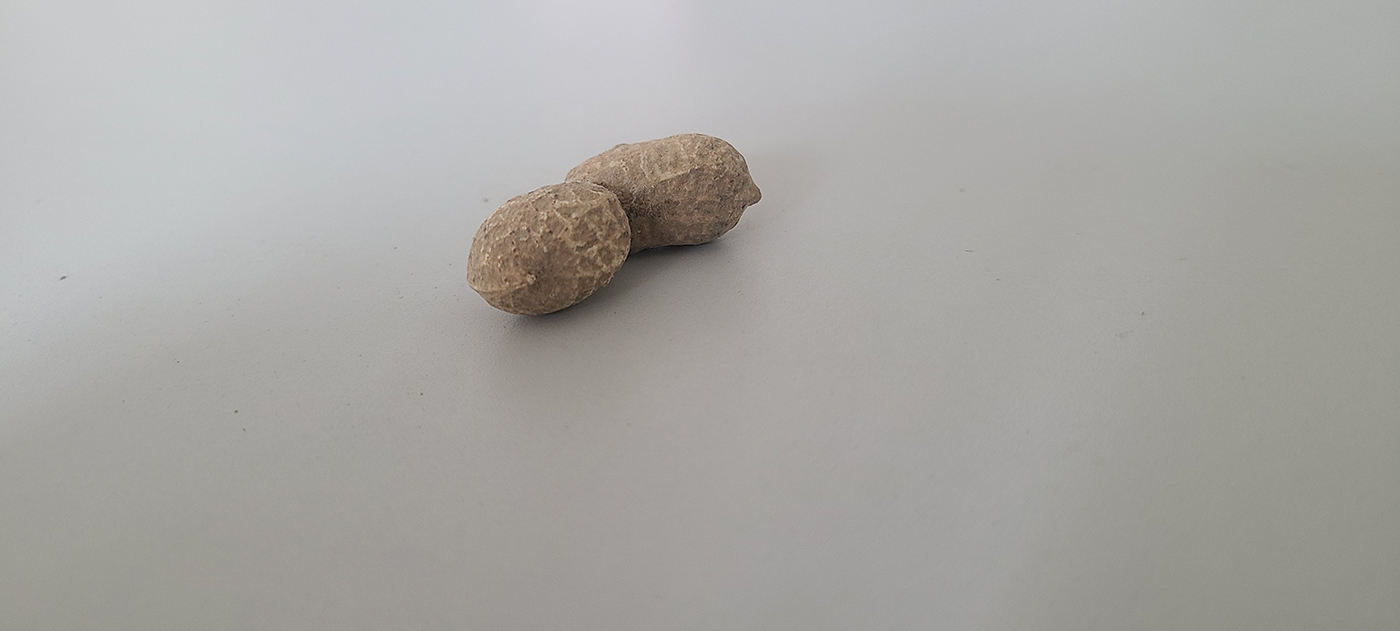h: (464, 132, 760, 319)
